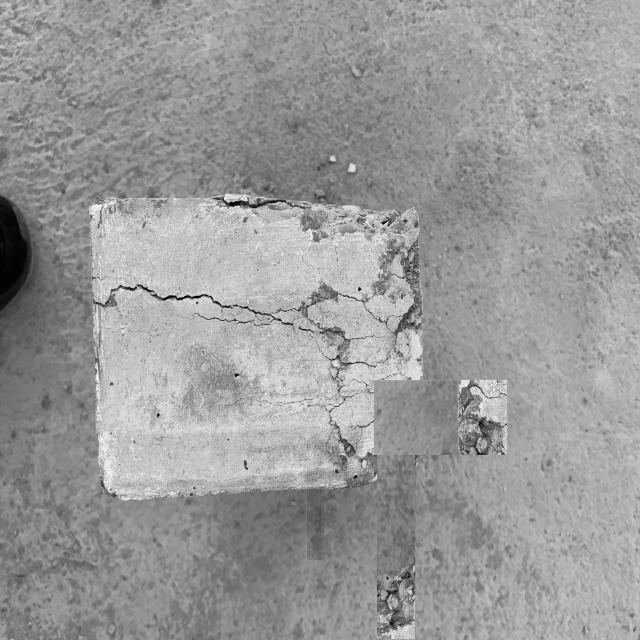diagonal crack: (374, 382, 507, 454)
vertical crack: (377, 405, 415, 639), (308, 440, 322, 560)
